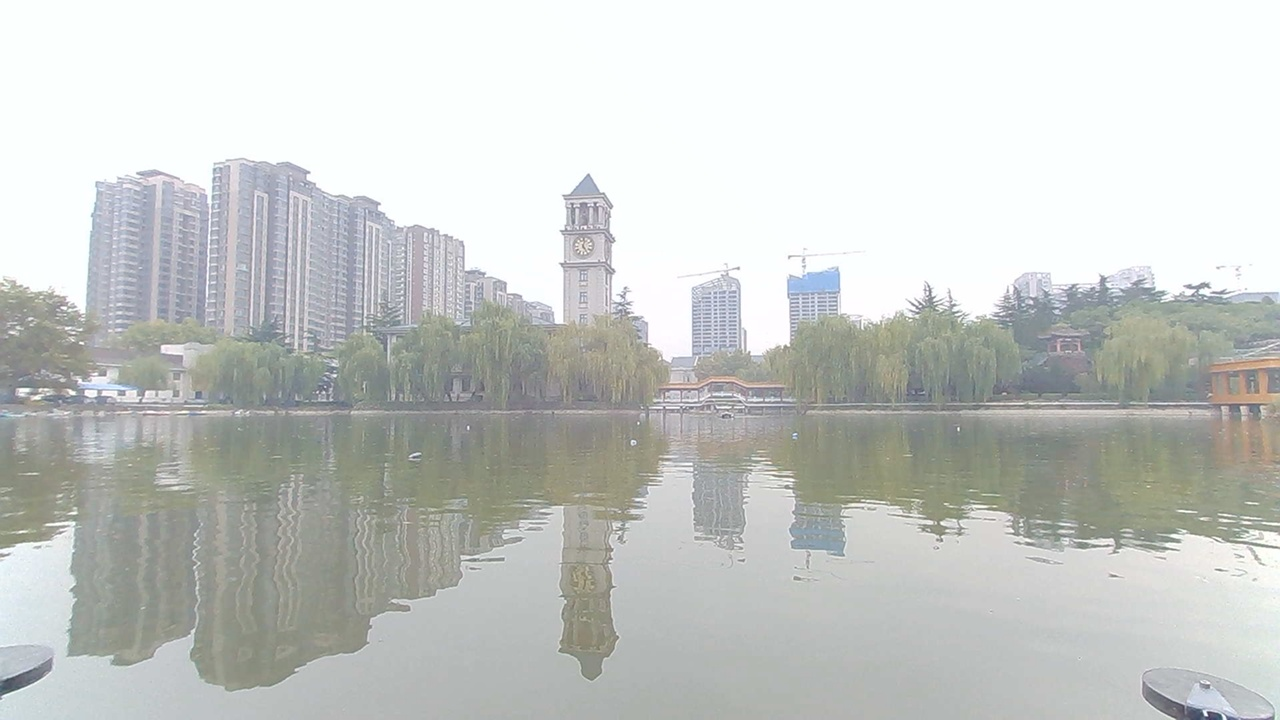bottle: (402, 443, 439, 472), (448, 414, 485, 443), (783, 421, 817, 448), (944, 413, 974, 439), (618, 435, 655, 456), (622, 411, 651, 433)
